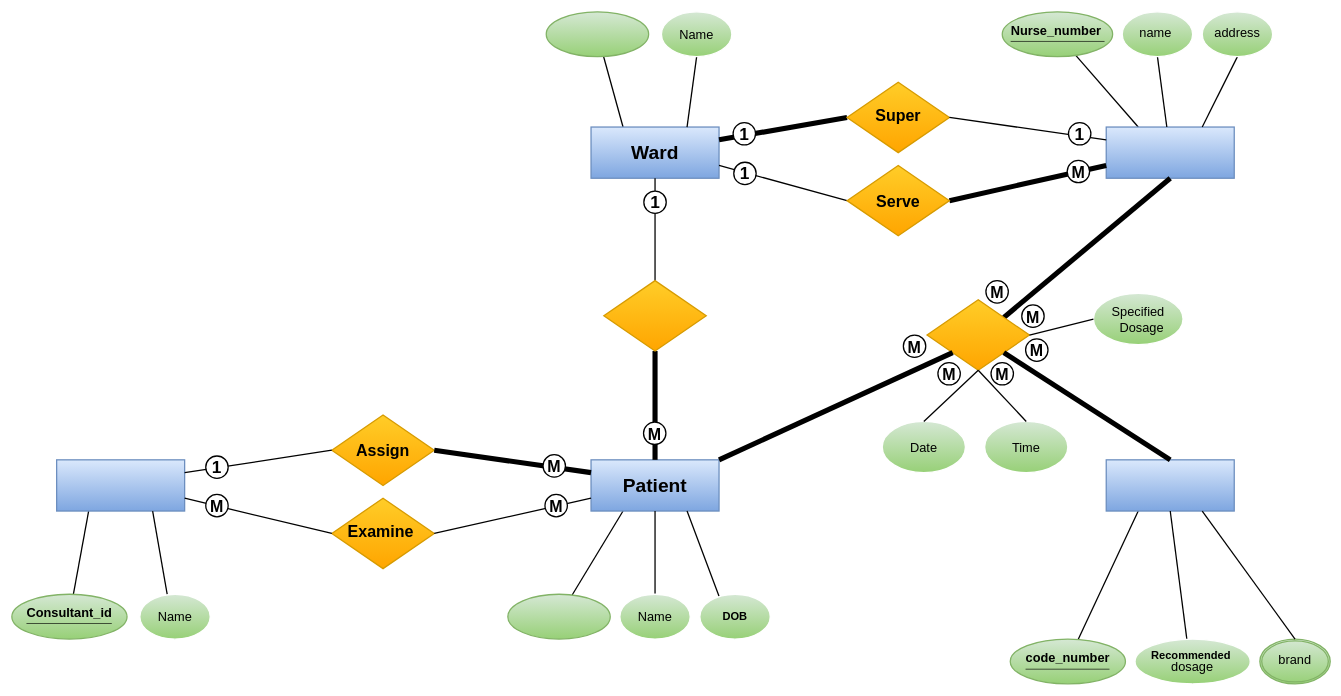
Some shapes in this 1341 by 696 pixel diagram are drawn without their labels. Here are the shapes that lost their labels. From the top down, the centre of each, then its label:
At point 597,34: "ward_id".
At point 1170,152: "Nurse".
At point 655,315: "Host".
At point 978,335: "Gives".
At point 120,485: "Consultant".
At point 1170,485: "Drug".
At point 559,616: "Patient_id".
